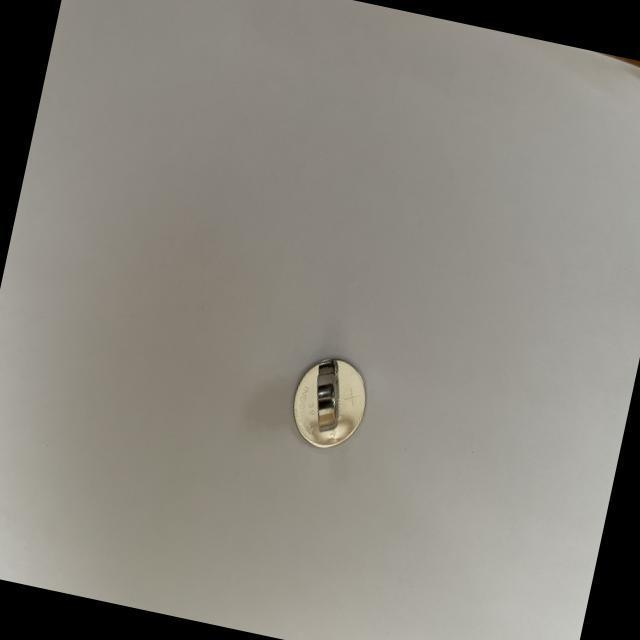COIN: (285, 352, 372, 454), (304, 354, 352, 436)
